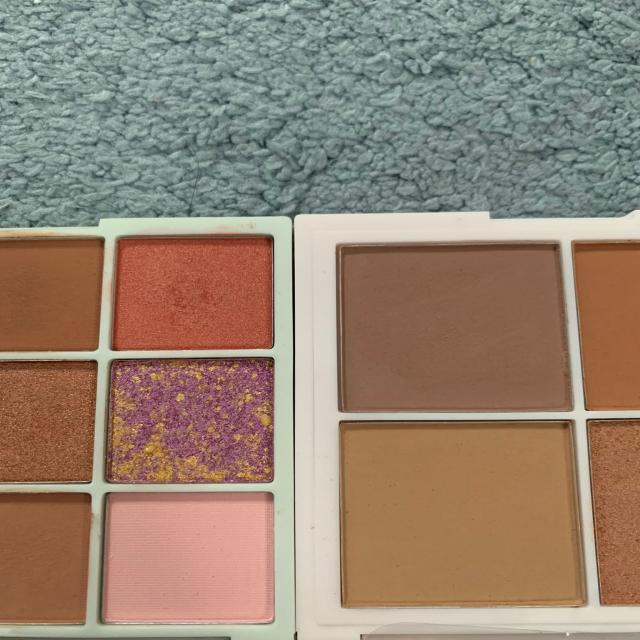eye shade: (344, 227, 640, 615), (0, 238, 286, 627)
